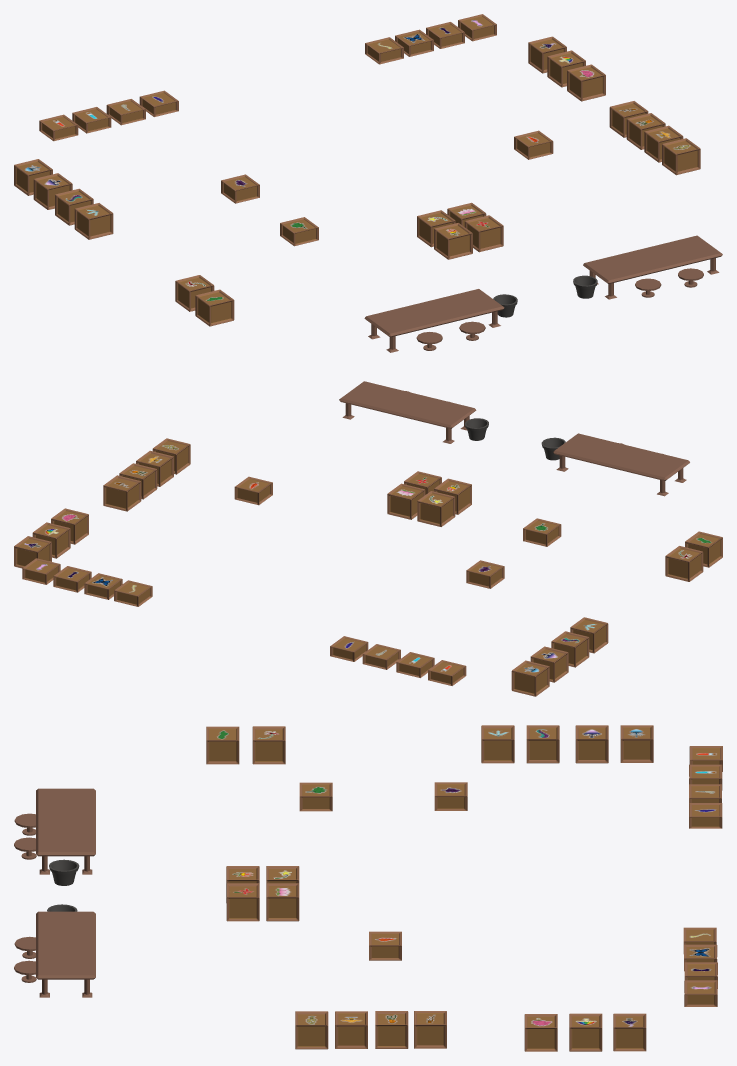
Rendered from ASSETS_Sala de Ingredientes (1).fbx.
3 renders of one model, top to bottom at view 1: azimuth 30°, elevation 25°; view 2: azimuth 150°, elevation 25°; view 3: azimuth 270°, elevation 25°, orthographic. The views are drawn at different scales.
Visible parts, largest first — view 1: Mesa.011, Mesa.008, Cube.002, Cube.003, Cube.026, Cube.027, Cube.006, Cube.005, Cube.025, Cube.001, Cube.014, Cube.013 (+18 smaller); view 2: Mesa.011, Mesa.008, Cube.001, Cube.004, Cube.023, Cube.009, Cube.077, Cube.013, Cube.022, Cube.002, Cube.003, Cube.025 (+18 smaller); view 3: Mesa.011, Mesa.008, Cube.077, Cube.001, Cube.002, Cube.003, Cube.013, Cube.026, Cube.005, Cube.025, Cube.028, Cube.022 (+19 smaller).
Part boxes in pixels (<box>): Mesa.011: <box>364,289,504,352</box>; Mesa.008: <box>583,235,722,299</box>; Cube.002: <box>195,289,234,326</box>; Cube.003: <box>74,203,113,239</box>; Cube.026: <box>662,138,700,175</box>; Cube.027: <box>567,64,605,101</box>; Cube.006: <box>434,223,472,259</box>; Cube.005: <box>464,215,503,252</box>; Cube.025: <box>33,173,72,209</box>; Cube.001: <box>175,275,214,311</box>; Cube.014: <box>514,130,553,159</box>; Cube.013: <box>55,188,93,225</box>; Mesa.011: <box>553,433,689,496</box>; Mesa.008: <box>339,381,476,443</box>; Cube.001: <box>665,546,703,581</box>; Cube.004: <box>103,475,141,511</box>; Cube.023: <box>511,660,549,696</box>; Cube.009: <box>417,491,455,526</box>; Cube.077: <box>387,483,425,519</box>; Cube.013: <box>551,631,589,667</box>; Cube.022: <box>14,536,51,568</box>; Cube.002: <box>685,531,722,567</box>; Cube.003: <box>570,617,608,653</box>; Cube.025: <box>530,646,568,682</box>; Mesa.011: <box>36,788,95,874</box>; Mesa.008: <box>36,911,95,997</box>; Cube.077: <box>266,883,299,921</box>; Cube.001: <box>252,726,285,764</box>; Cube.002: <box>206,726,239,764</box>; Cube.003: <box>481,725,514,763</box>; Cube.013: <box>526,725,559,763</box>; Cube.026: <box>295,1011,328,1049</box>; Cube.005: <box>226,883,259,921</box>; Cube.025: <box>575,725,608,763</box>; Cube.028: <box>569,1013,602,1051</box>; Cube.022: <box>613,1013,646,1051</box>.
Size of the model in its own units: 3306 by 201 by 3273.
